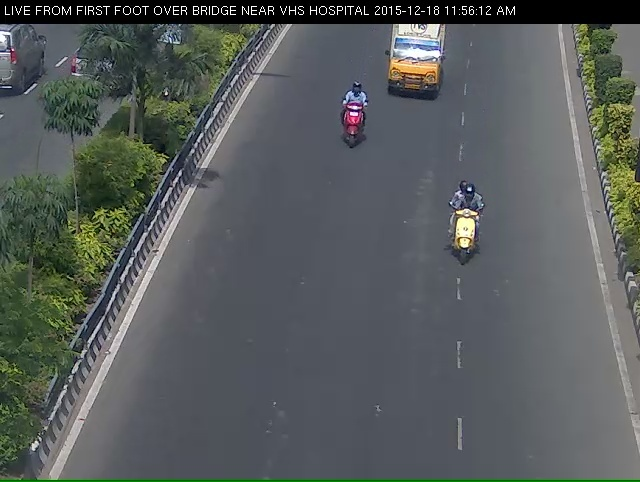Auto: (377, 20, 452, 109)
Person: (443, 186, 494, 271), (333, 85, 374, 165)
